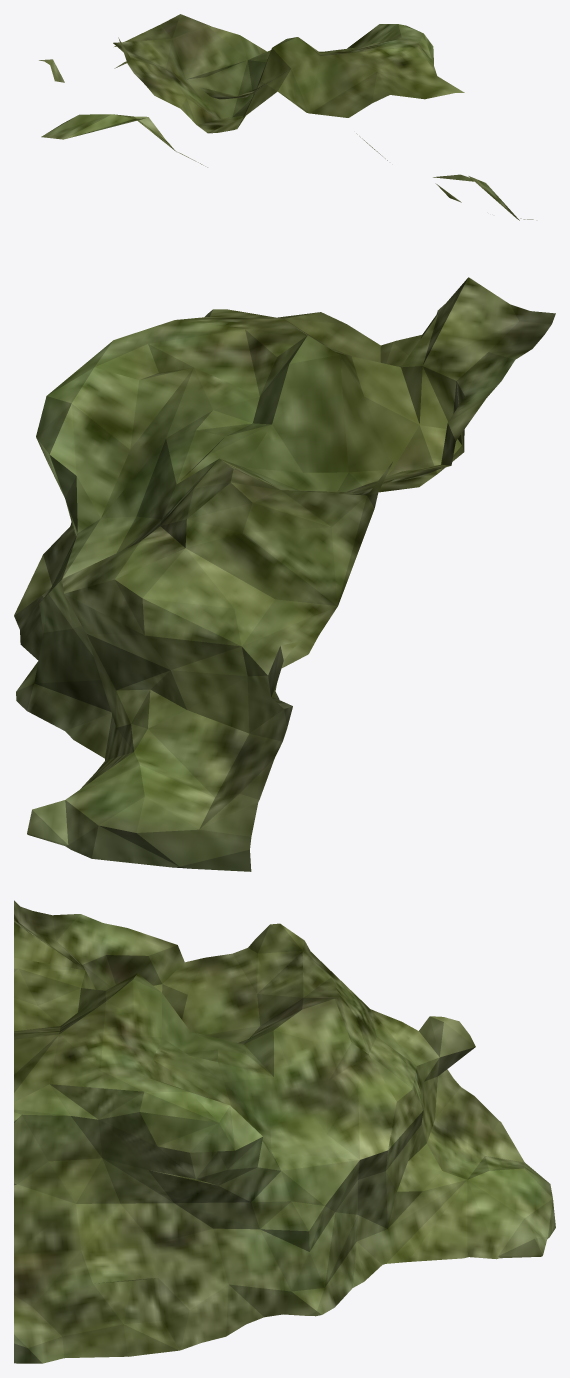
3 renders of one model, top to bottom at view 1: azimuth 30°, elevation 25°; view 2: azimuth 150°, elevation 25°; view 3: azimuth 270°, elevation 25°, orthographic. The views are drawn at different scales.
Bounding box in the file's own units: 1.24 × 0.8726 × 1.49.
Materials: 1 (1 with a texture image).
